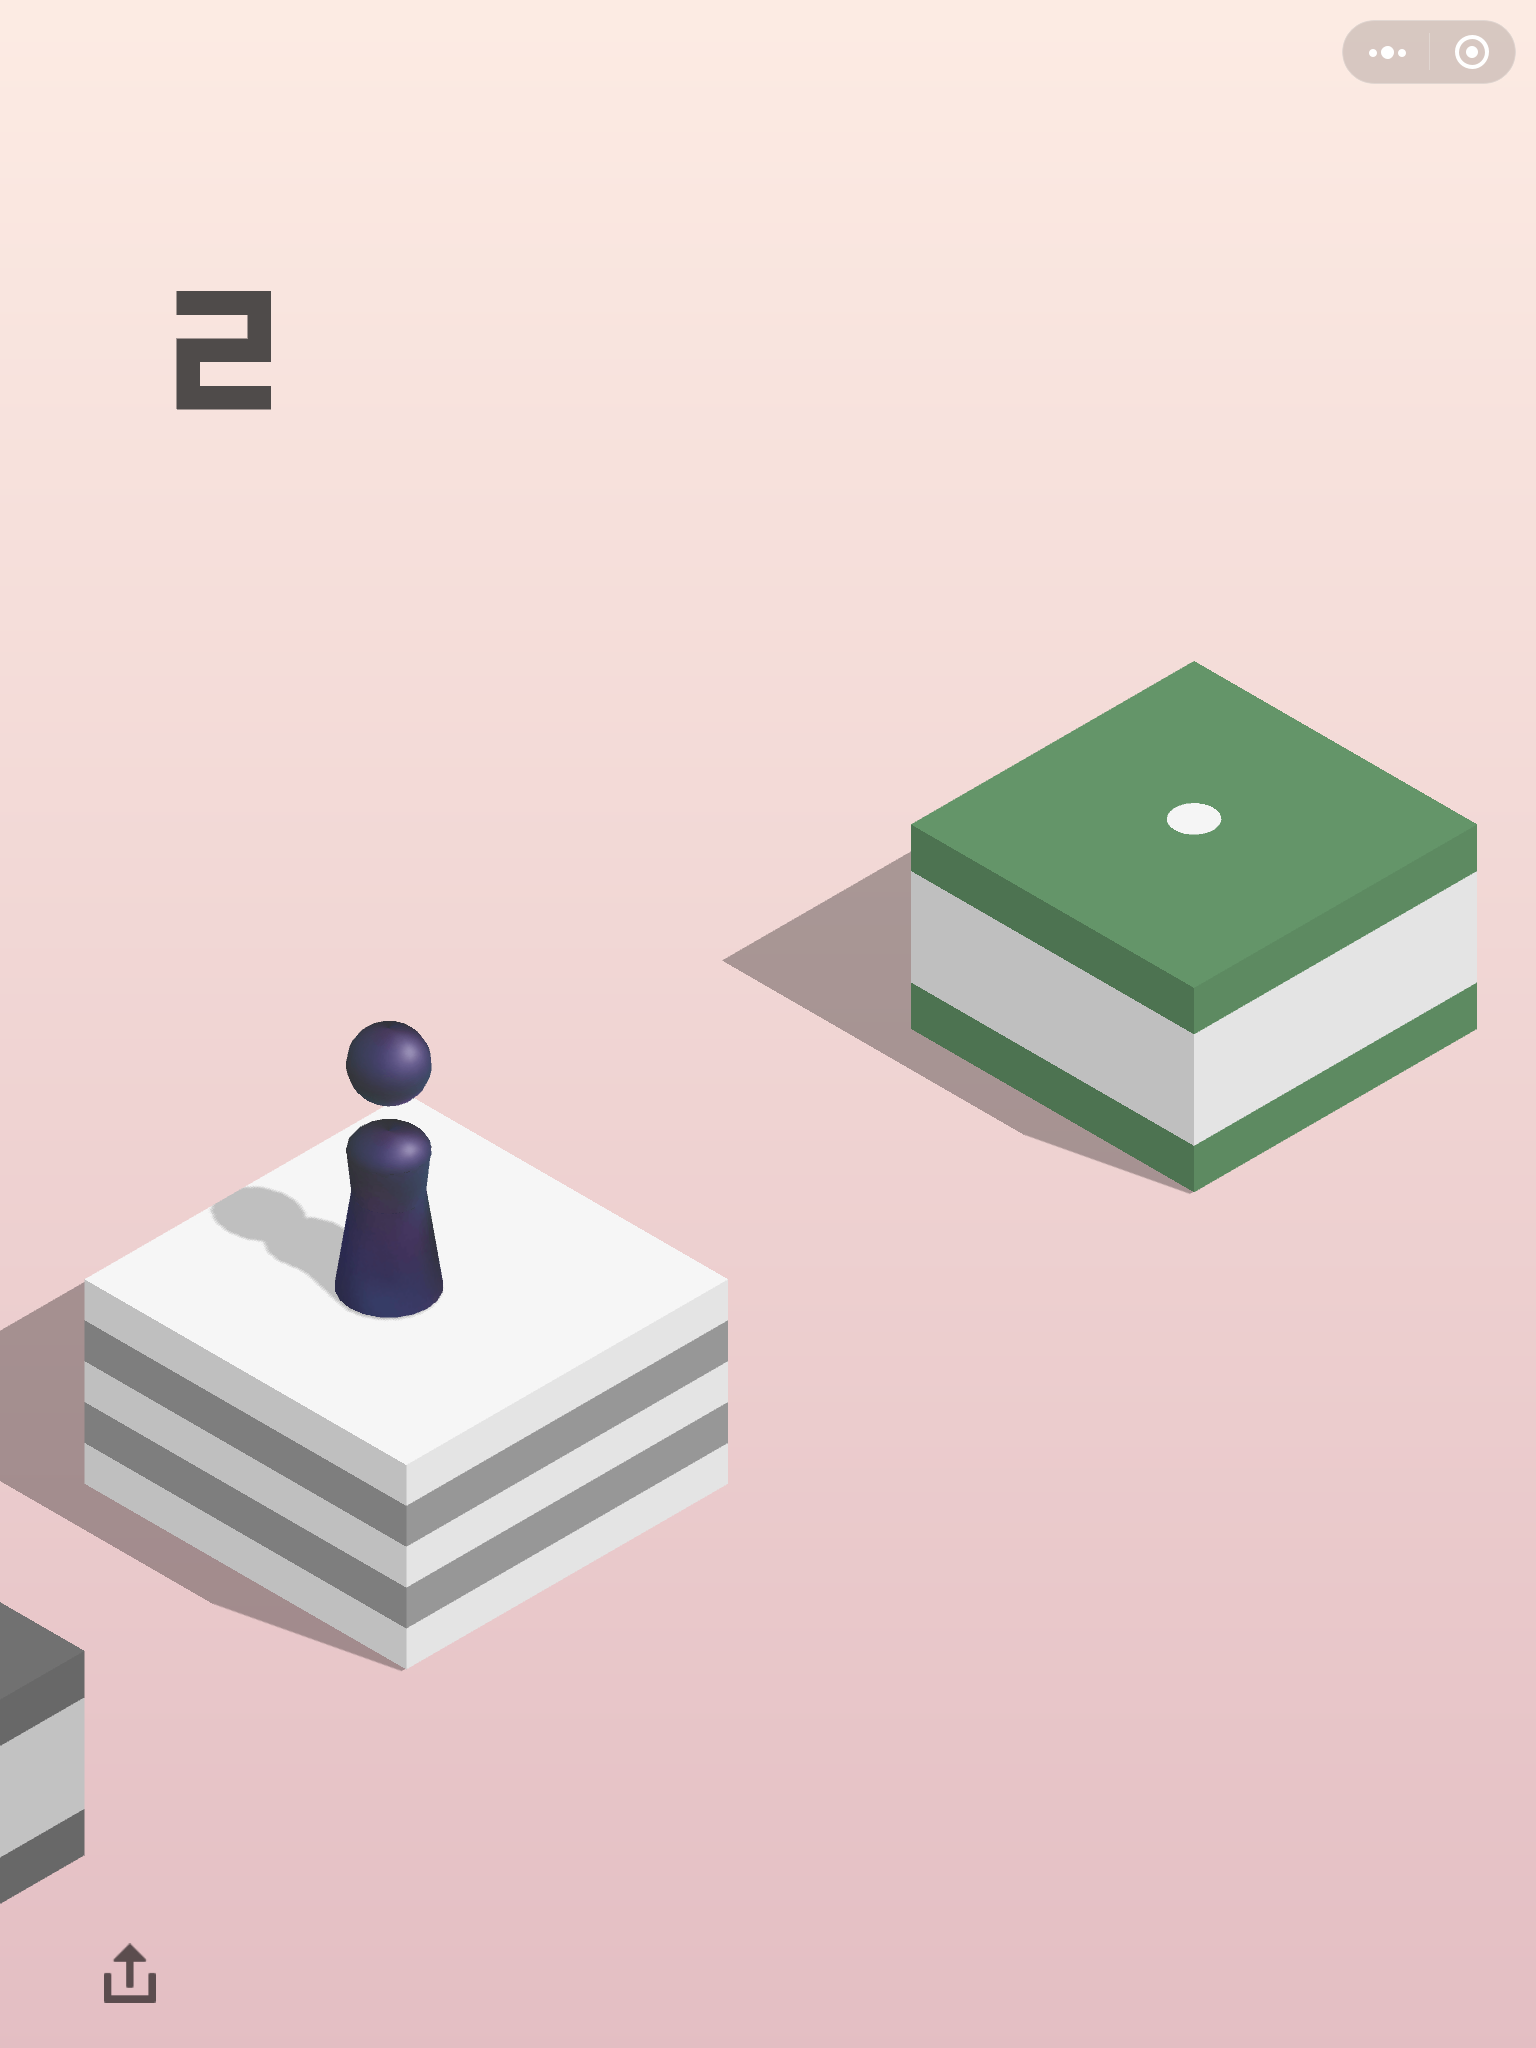f: (79, 1089, 736, 1675), (907, 656, 1484, 1193)
r: (331, 1018, 445, 1321)
